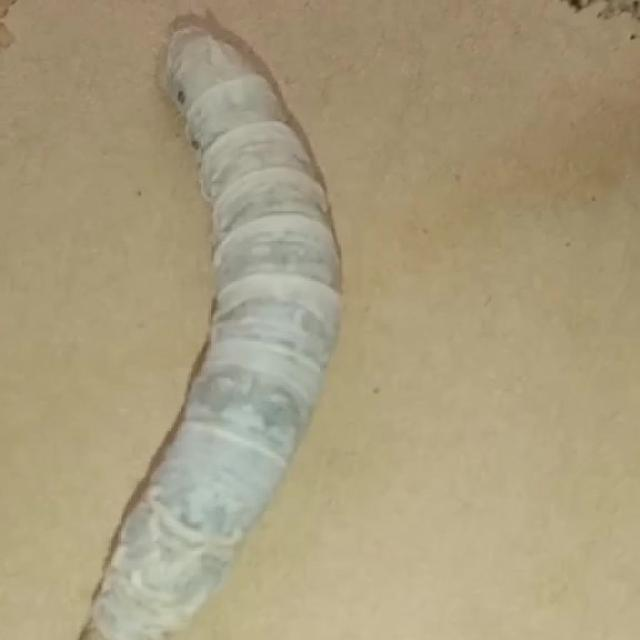Grasserie: (68, 0, 377, 639)
